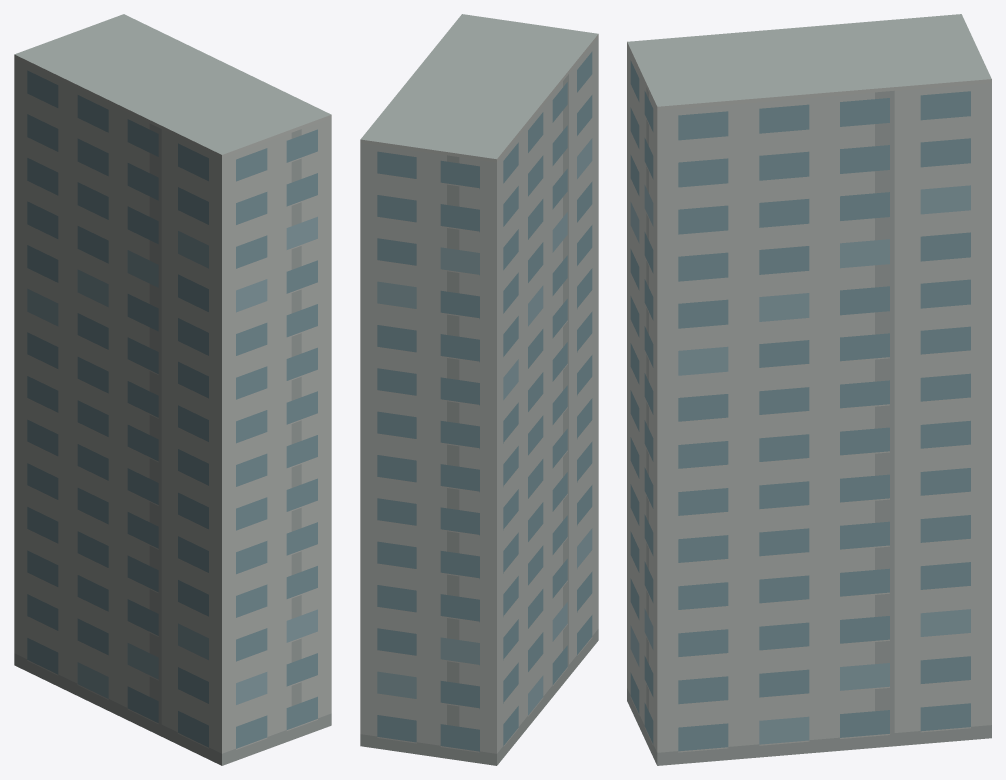
File: residential-7db9b8aa-f6ec-4516-a9f5-ccc528344125.glb
3 renders of one model, left to right at view 1: azimuth 30°, elevation 25°; view 2: azimuth 150°, elevation 25°; view 3: azimuth 270°, elevation 25°, orthographic. The views are drawn at different scales.
Parts seen in each view (by area): view 1: residential-7db9b8aa-f6ec-4516-a9f5-ccc528344125.tmp; view 2: residential-7db9b8aa-f6ec-4516-a9f5-ccc528344125.tmp; view 3: residential-7db9b8aa-f6ec-4516-a9f5-ccc528344125.tmp.
Part boxes in pixels (bbox=[...]): residential-7db9b8aa-f6ec-4516-a9f5-ccc528344125.tmp: bbox=[14, 14, 331, 765]; residential-7db9b8aa-f6ec-4516-a9f5-ccc528344125.tmp: bbox=[360, 14, 598, 765]; residential-7db9b8aa-f6ec-4516-a9f5-ccc528344125.tmp: bbox=[627, 14, 991, 765].
Bounding box in the file's own units: 13.29 × 44 × 22.08.
